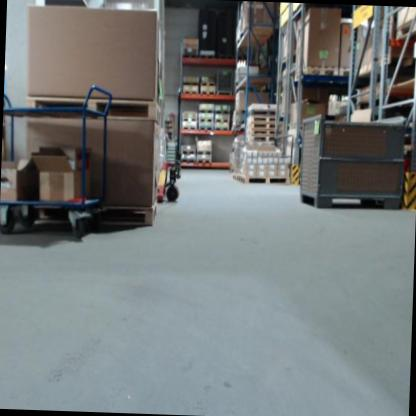pallet: (25, 95, 163, 126), (30, 196, 159, 227), (240, 173, 289, 189), (394, 14, 416, 41), (303, 65, 339, 80), (245, 119, 278, 128), (244, 133, 278, 141), (245, 126, 277, 134), (338, 67, 353, 78), (247, 109, 276, 114), (246, 116, 276, 120), (182, 53, 198, 59), (200, 90, 216, 96), (198, 117, 214, 123), (214, 118, 230, 124), (218, 55, 235, 60), (182, 90, 199, 95), (183, 81, 199, 86), (200, 81, 216, 86), (182, 117, 198, 122), (198, 126, 214, 131), (196, 150, 212, 155), (196, 159, 212, 164), (181, 150, 196, 155), (181, 158, 196, 163), (199, 55, 216, 59), (215, 110, 231, 114), (182, 126, 198, 130), (214, 127, 230, 131), (199, 109, 214, 113), (236, 176, 242, 182), (232, 174, 237, 181)
pallet_truck: (150, 84, 191, 209)
stillage: (289, 112, 408, 213)
